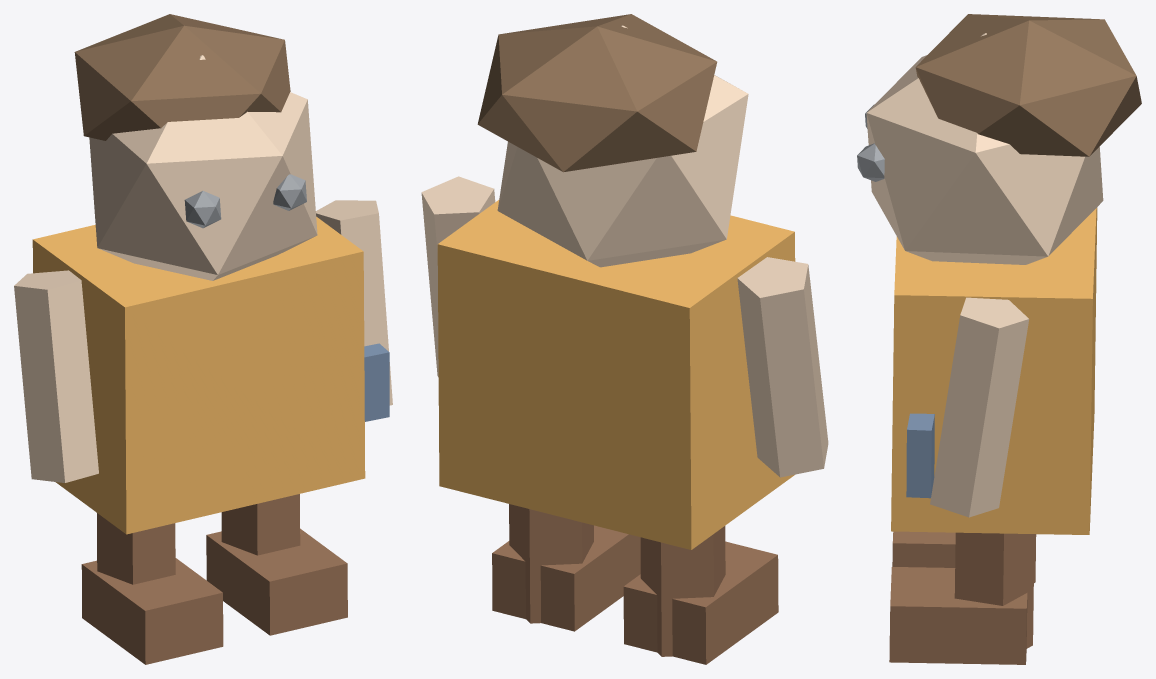
Rendered from npcpose_villager_idle_07.glb.
3 views of the same model, side by side, from view 1: azimuth 30°, elevation 25°; view 2: azimuth 150°, elevation 25°; view 3: azimuth 270°, elevation 25° (orthographic). The views are drawn at different scales.
Parts seen in each view (by area): view 1: npcpose; view 2: npcpose; view 3: npcpose.
Boxes of the visible parts, x1=… form: npcpose: x1=14, y1=14, x2=392, y2=664; npcpose: x1=421, y1=14, x2=828, y2=664; npcpose: x1=857, y1=14, x2=1141, y2=664.
Size of the model in its own units: 0.6987 by 1.06 by 0.459.
